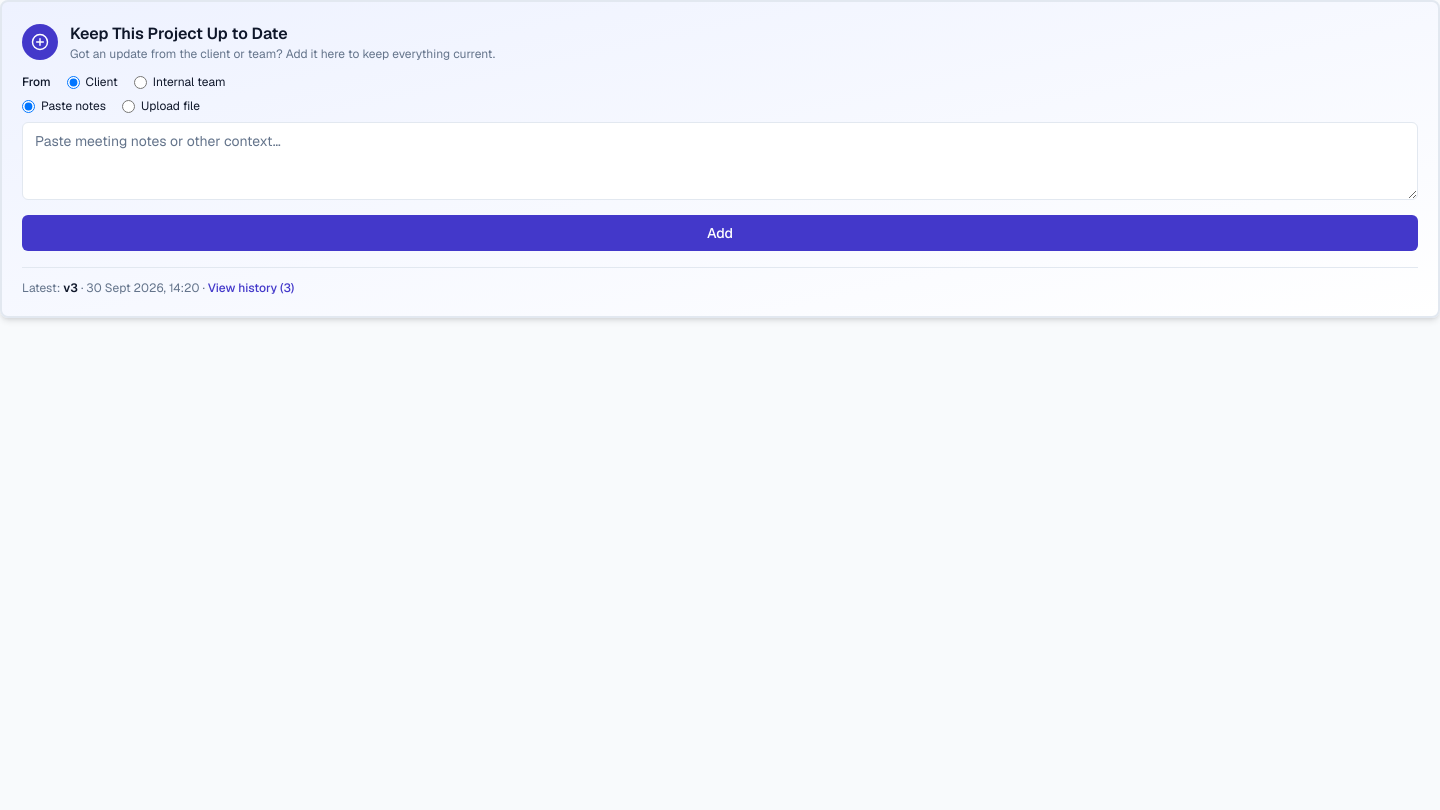
KnowledgeUpload › version history › clamps a long note to two lines with 'Show more', and expands it
The width and height of the screenshot is (1440, 810).
Click the button "View history (3)" at (251, 288), box 208,280 -> 294,296
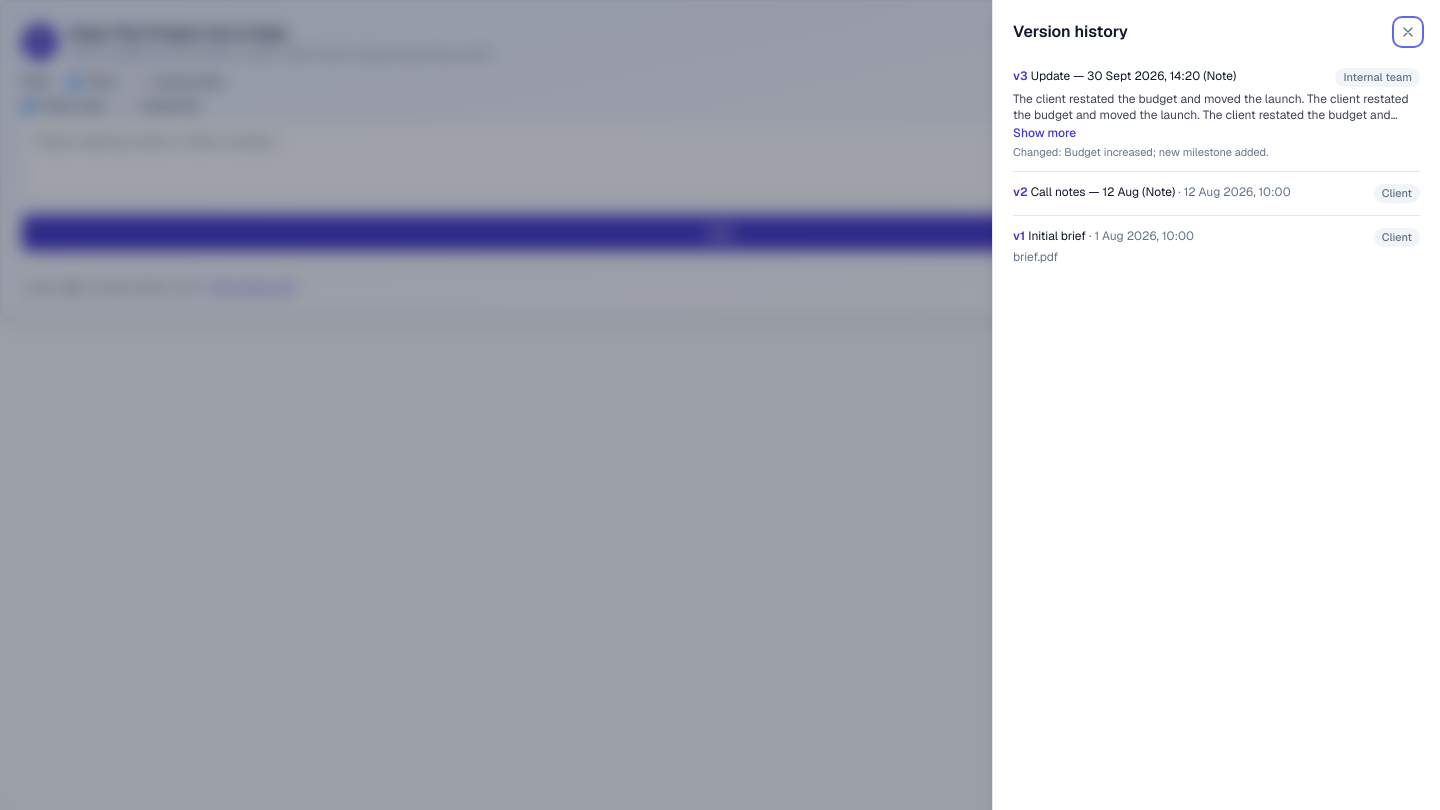
Click the button "Show more" at (1045, 133), box 1013,125 -> 1076,141
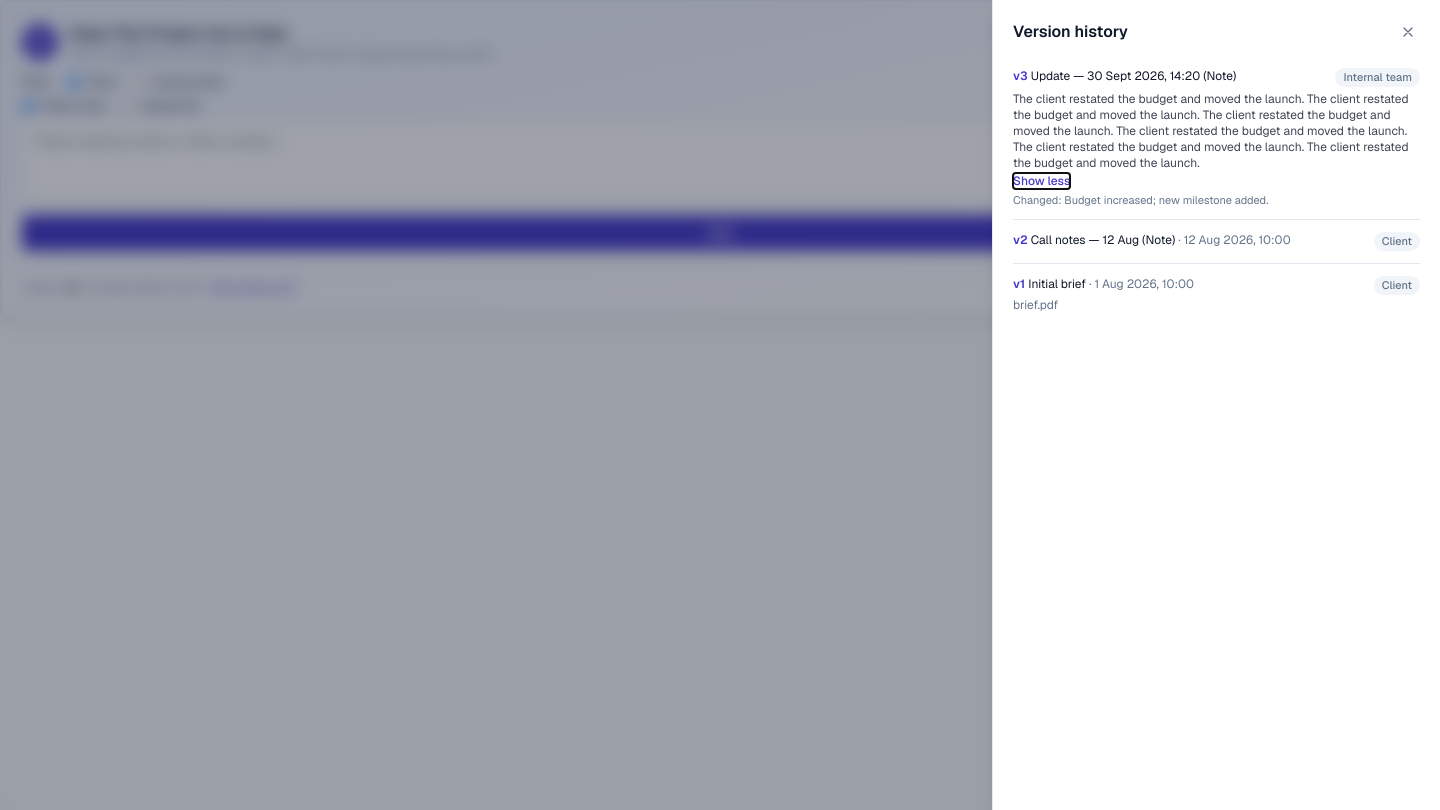
Expected: the button "Show less" is expanded, 1013,173 -> 1070,189
